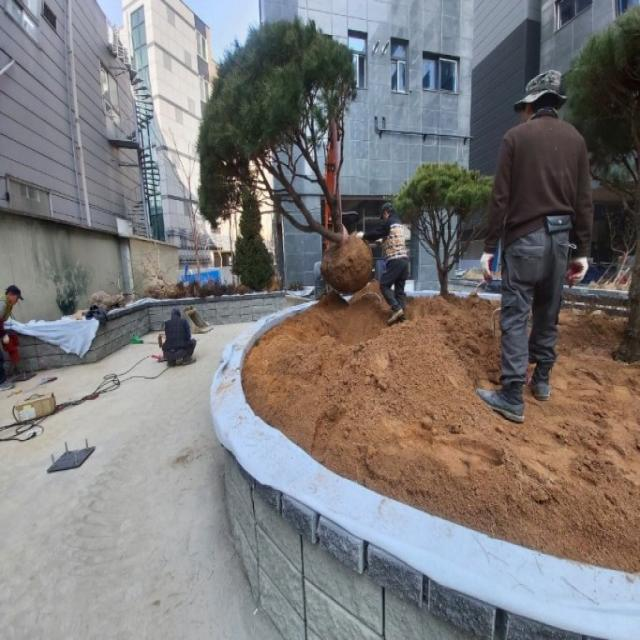plant: (197, 12, 374, 296), (560, 6, 640, 364), (393, 161, 494, 297), (231, 194, 275, 292)
